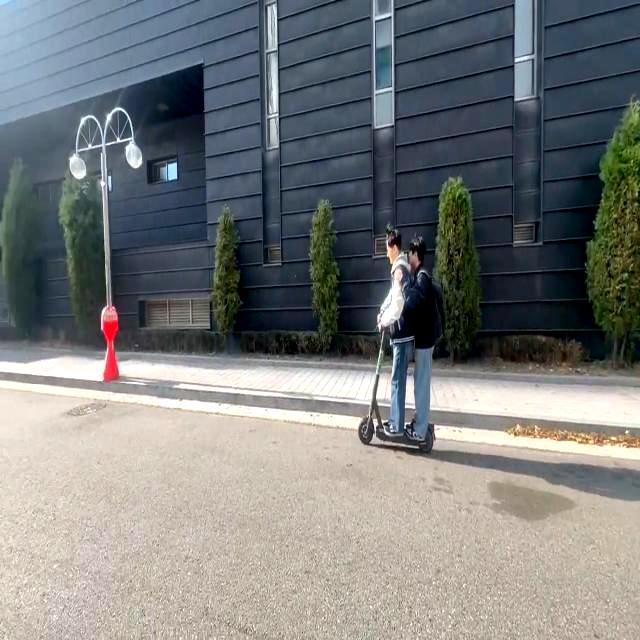bare_head: (378, 227, 403, 265), (404, 235, 427, 271)
human: (374, 225, 413, 440), (404, 233, 439, 447)
kickboard: (348, 404, 442, 457)
